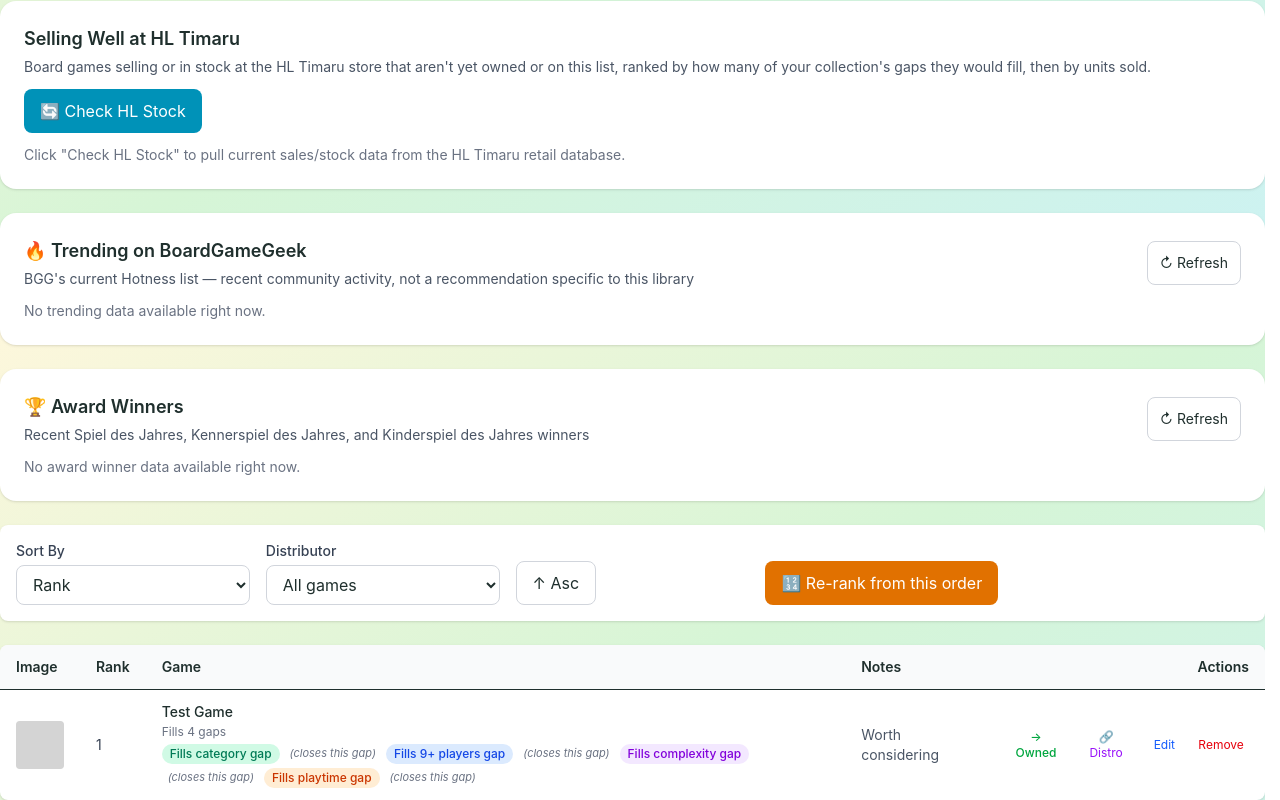
Test case: BuyListTab › Sorting › toggles sort direction
(page scrolled)
Expected: the text "Test Game" is shown, [162,703,233,720]
Click the button "↑ Asc".
click(556, 583)  # box [516,561,596,605]
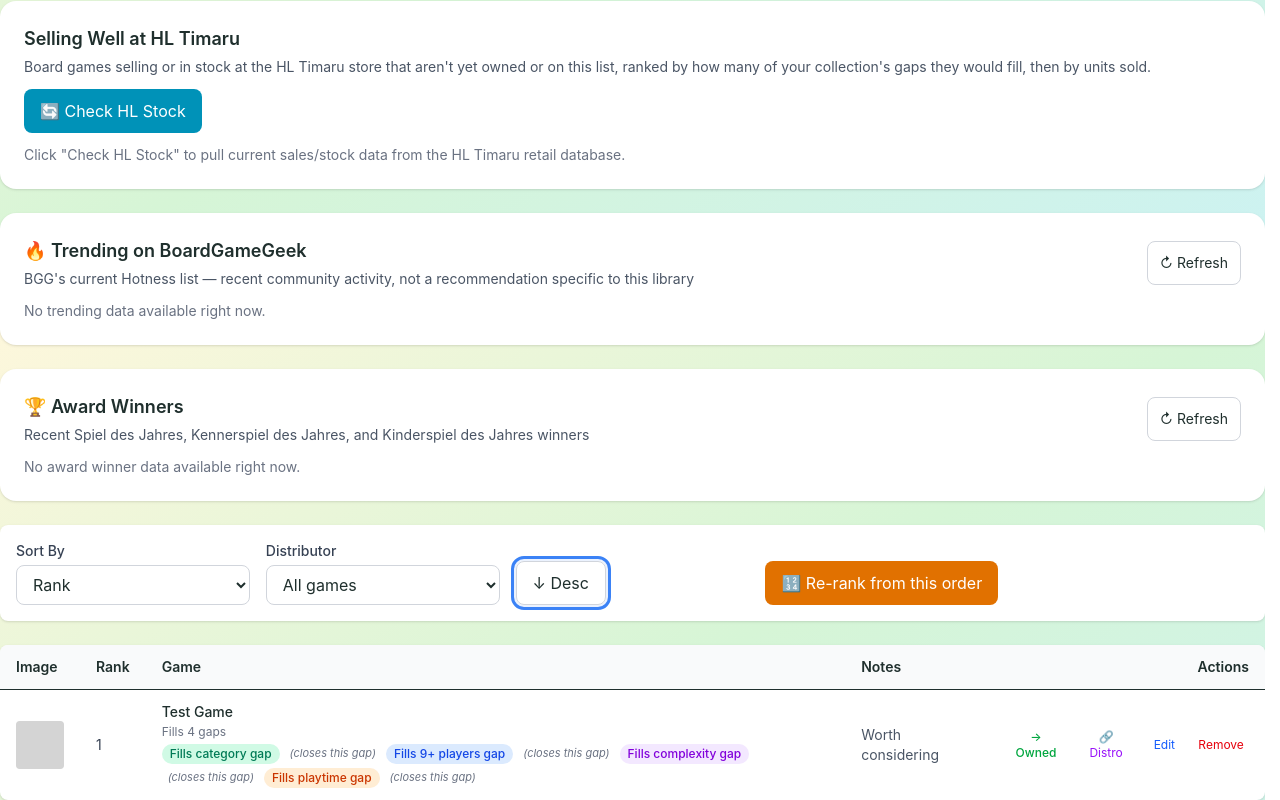
Expected: the button "↓ Desc" is shown, [516,561,606,605]
